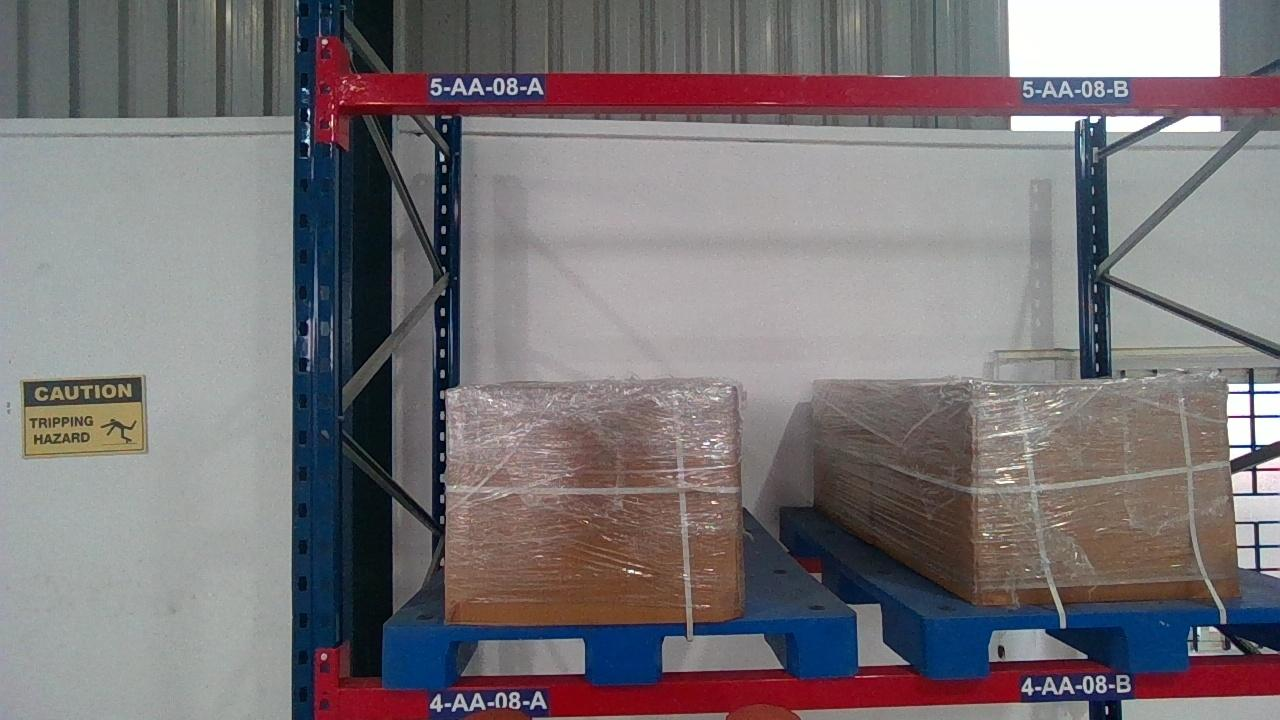h_rack: (344, 72, 1277, 107), (332, 674, 1279, 703)
small_pallet: (380, 618, 862, 682), (926, 609, 1279, 670)
